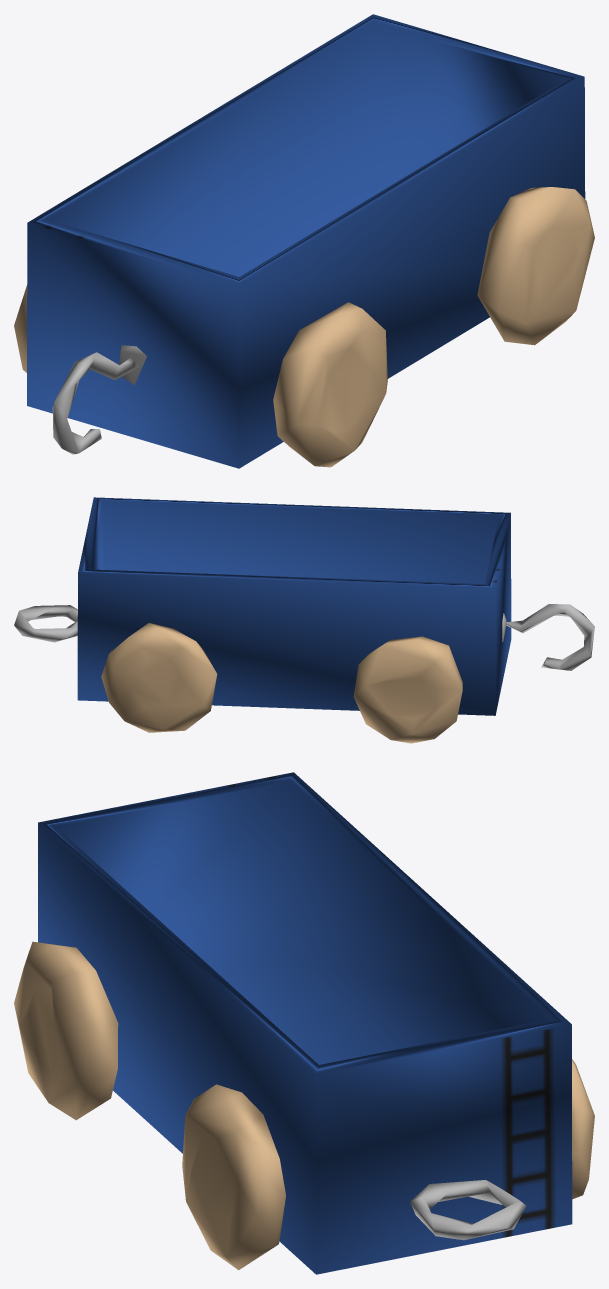
Rendered from blu_LOD1.fbx.
3 renders of one model, top to bottom at view 1: azimuth 30°, elevation 25°; view 2: azimuth 150°, elevation 25°; view 3: azimuth 270°, elevation 25°, orthographic. The views are drawn at different scales.
Parts seen in each view (by area): view 1: vagone; view 2: vagone; view 3: vagone.
Part boxes in pixels (x1,y1,x2,y2): vagone: (14, 14, 594, 468); vagone: (14, 497, 594, 743); vagone: (14, 772, 594, 1274).
Bounding box in the file's own units: 587 × 181 × 408.
3 materials, 1 textured.
